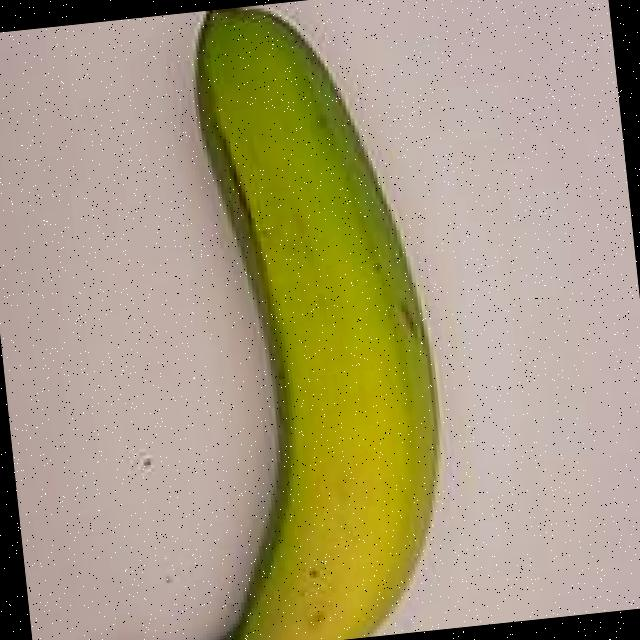Unripe: (2, 0, 509, 640)
